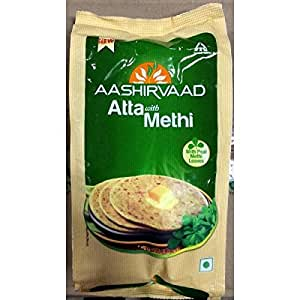VEG: (198, 256, 214, 274)
